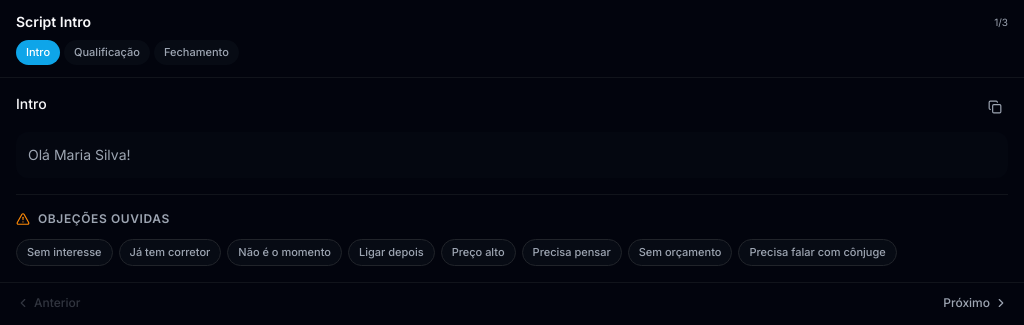
Test: ProspectingScriptGuide › navigates via section tabs
What coordinates should you click on to do the following:
click the button "Fechamento"
I would click on:
 (196, 52)
Its box is [154, 40, 239, 64].
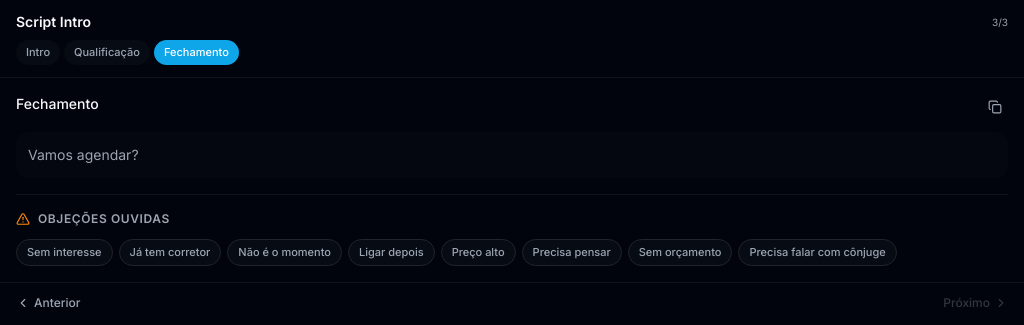
Now the text "3/3" is shown, box [992, 14, 1008, 30]
